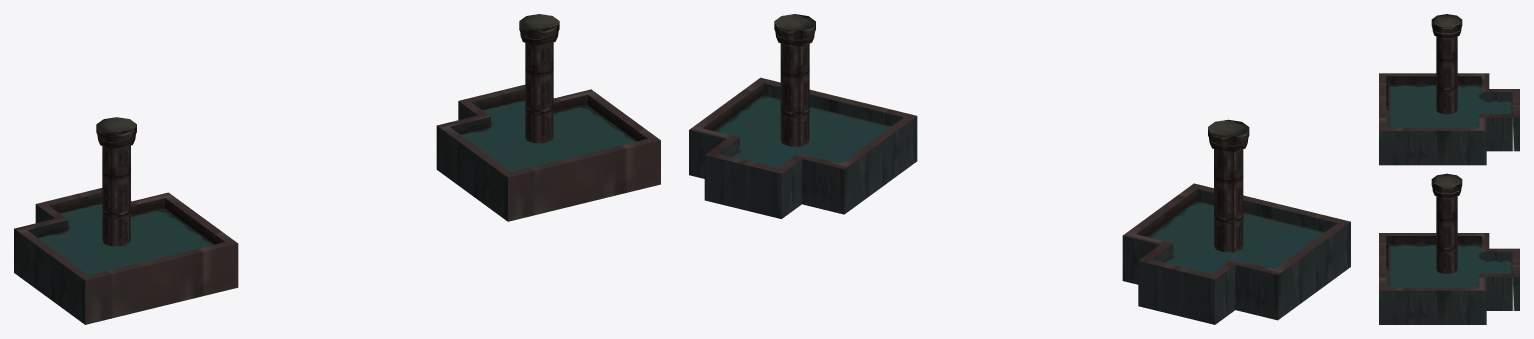
Rendered from level 2 floor.fbx.
The picture shows the model from 3 angles, left to right: view 1: azimuth 30°, elevation 25°; view 2: azimuth 150°, elevation 25°; view 3: azimuth 270°, elevation 25°; orthographic projection. The views are drawn at different scales.
Parts seen in each view (by area): view 1: Room.004, Room.007, Room.011, Room.010, Plane.001, Plane.012; view 2: Room.004, Room.007, Room.011, Room.010, Plane.001, Plane.012; view 3: Room.004, Room.007, Room.011, Room.010, Plane.012, Plane.001.
Boxes of the visible parts, left/top/right/bottom form: Room.004: left=436, top=84, right=660, bottom=221; Room.007: left=14, top=188, right=238, bottom=324; Room.011: left=461, top=100, right=636, bottom=171; Room.010: left=38, top=203, right=213, bottom=274; Plane.001: left=519, top=14, right=559, bottom=143; Plane.012: left=96, top=117, right=136, bottom=246; Room.004: left=689, top=77, right=917, bottom=218; Room.007: left=1122, top=183, right=1350, bottom=324; Room.011: left=714, top=95, right=891, bottom=167; Room.010: left=1147, top=201, right=1324, bottom=273; Plane.001: left=774, top=14, right=815, bottom=146; Plane.012: left=1208, top=119, right=1249, bottom=252; Room.004: left=1379, top=233, right=1519, bottom=324; Room.007: left=1379, top=73, right=1519, bottom=165; Room.011: left=1388, top=244, right=1512, bottom=287; Room.010: left=1388, top=84, right=1512, bottom=127; Plane.012: left=1431, top=14, right=1462, bottom=114; Plane.001: left=1431, top=173, right=1462, bottom=273.
Size of what is drawn, in the model's own units: 738 by 182 by 202.
